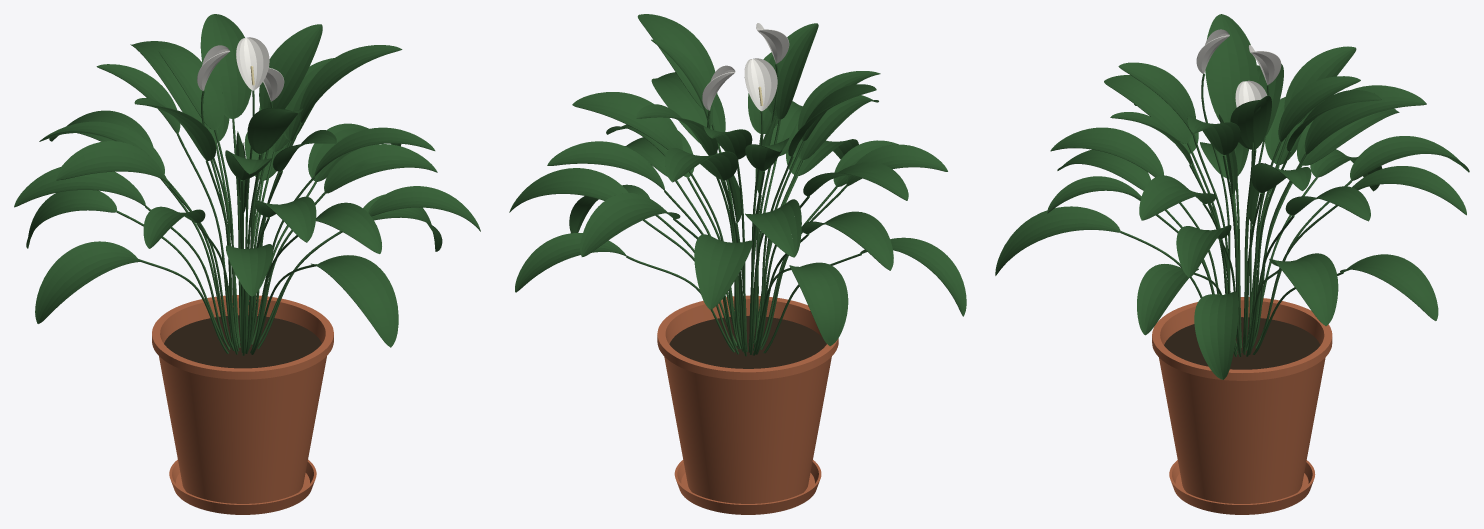
File: potted_plant.glb
The picture shows the model from 3 angles, left to right: view 1: azimuth 30°, elevation 25°; view 2: azimuth 150°, elevation 25°; view 3: azimuth 270°, elevation 25°; orthographic projection.
Visible parts, largest first — view 1: potted_plant, potted_plant.002, potted_plant.001, potted_plant.004; view 2: potted_plant, potted_plant.002, potted_plant.001, potted_plant.004; view 3: potted_plant, potted_plant.002, potted_plant.001, potted_plant.004.
Part boxes in pixels (left/top/right/bottom): potted_plant: left=14, top=14, right=480, bottom=355; potted_plant.002: left=152, top=295, right=333, bottom=514; potted_plant.001: left=164, top=315, right=321, bottom=368; potted_plant.004: left=197, top=37, right=284, bottom=101; potted_plant: left=509, top=14, right=966, bottom=356; potted_plant.002: left=657, top=295, right=838, bottom=514; potted_plant.001: left=669, top=316, right=826, bottom=368; potted_plant.004: left=702, top=23, right=789, bottom=111; potted_plant: left=995, top=14, right=1469, bottom=379; potted_plant.002: left=1152, top=297, right=1332, bottom=514; potted_plant.001: left=1164, top=317, right=1320, bottom=369; potted_plant.004: left=1196, top=29, right=1281, bottom=107.
Size of the model in its own units: 1.09 by 1.16 by 1.11.
